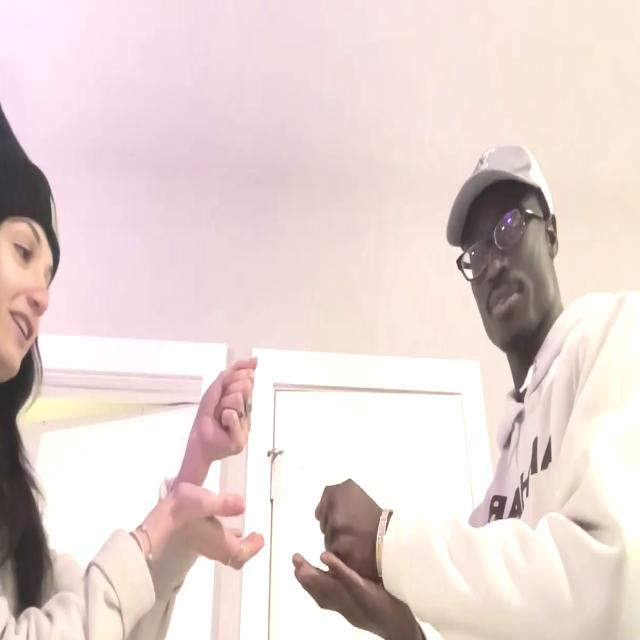Rock: (196, 356, 259, 464), (316, 476, 376, 579)
